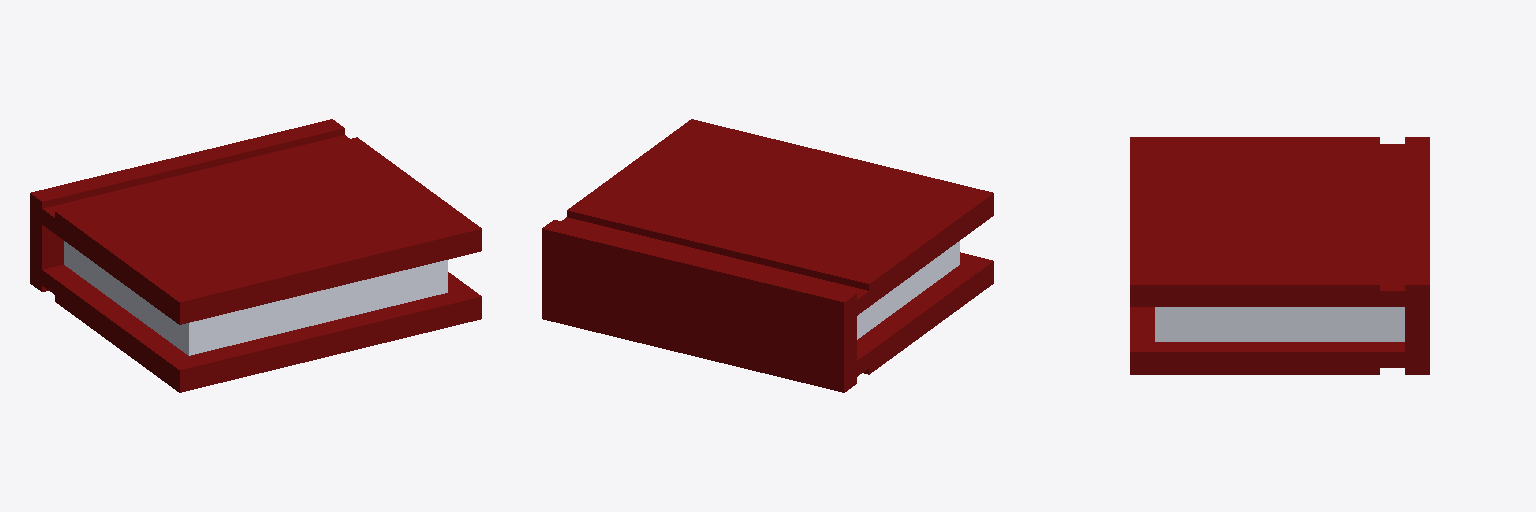
Rendered from Book1.obj.
The picture shows the model from 3 angles: view 1: azimuth 30°, elevation 25°; view 2: azimuth 150°, elevation 25°; view 3: azimuth 270°, elevation 25°; orthographic projection.
Parts seen in each view (by area): view 1: block; view 2: block; view 3: block.
Boxes of the visible parts, x1=… form: block: x1=30, y1=119, x2=481, y2=392; block: x1=542, y1=119, x2=993, y2=392; block: x1=1130, y1=137, x2=1429, y2=374.
Bounding box in the file's own units: 0.7258 × 0.2074 × 0.6221.